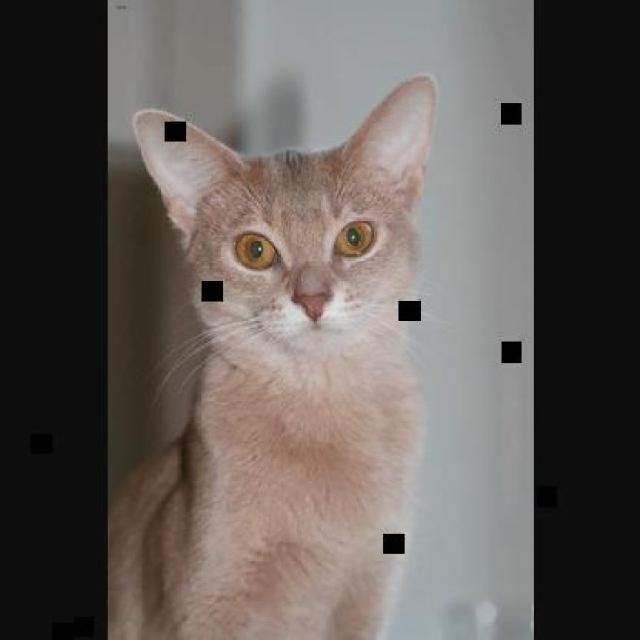unauthorized: (106, 72, 439, 638)
